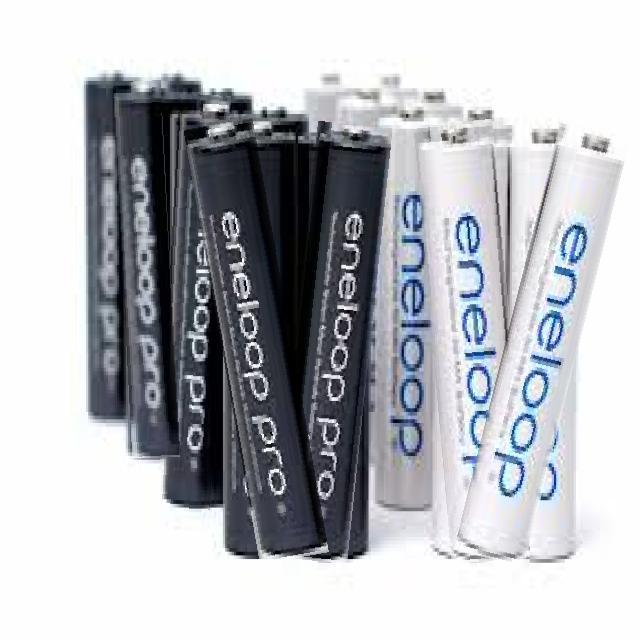Battery: (457, 127, 627, 565), (184, 121, 335, 561), (302, 120, 393, 564), (163, 99, 253, 515), (419, 127, 507, 534), (377, 102, 445, 510), (114, 65, 170, 461), (84, 64, 132, 426), (510, 121, 574, 327), (451, 97, 515, 133), (406, 74, 461, 114), (201, 72, 262, 106), (254, 95, 316, 126), (306, 65, 360, 94), (160, 60, 203, 94), (367, 73, 415, 93)
